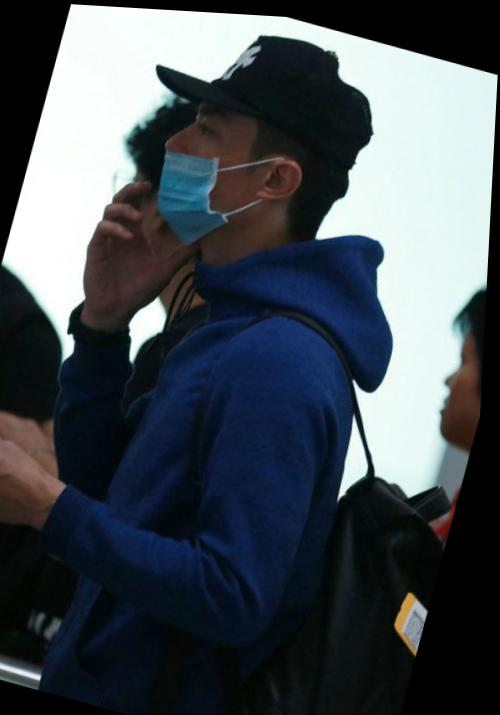NONE: (430, 322, 488, 443)
WRONG: (142, 81, 257, 248)
